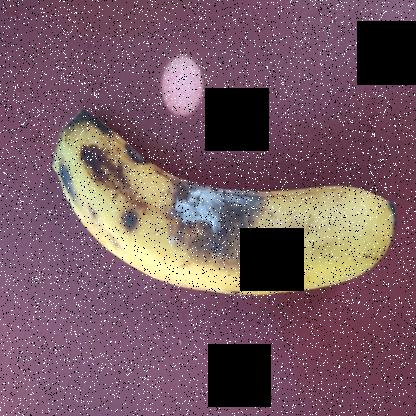ripe: (33, 113, 398, 338)
rotten: (138, 153, 280, 271)
